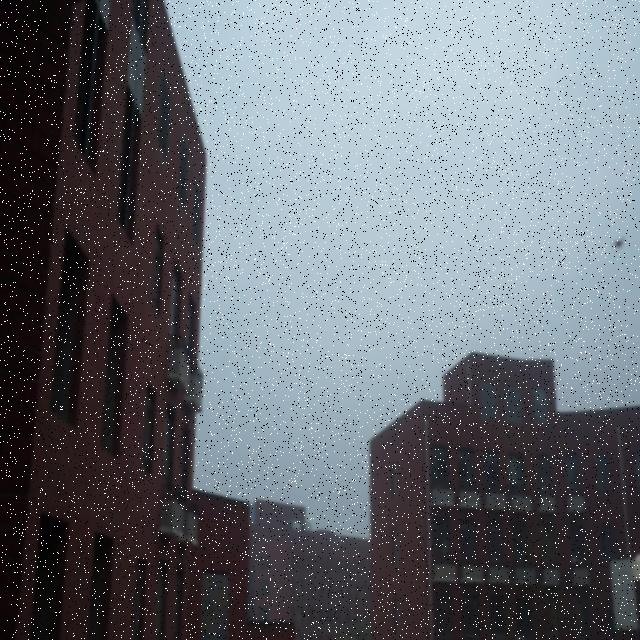UAV: (610, 235, 626, 250)
